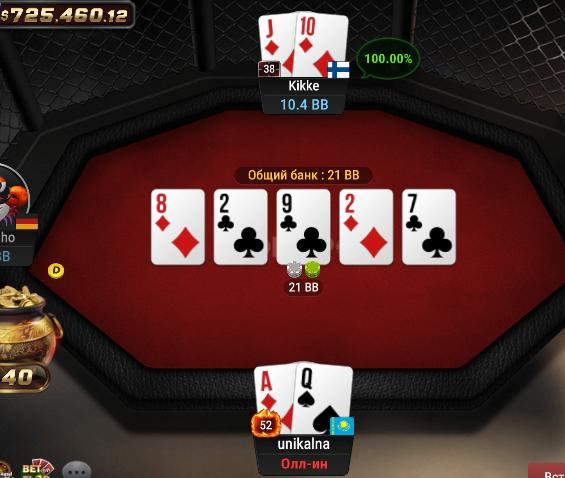10d: (295, 13, 349, 77)
2c: (214, 190, 267, 265)
2d: (340, 189, 394, 265)
7c: (402, 190, 456, 264)
8d: (152, 190, 205, 265)
9c: (277, 191, 329, 262)
Ad: (253, 364, 295, 434)
Jd: (258, 14, 296, 75)
Qs: (294, 363, 354, 436)
